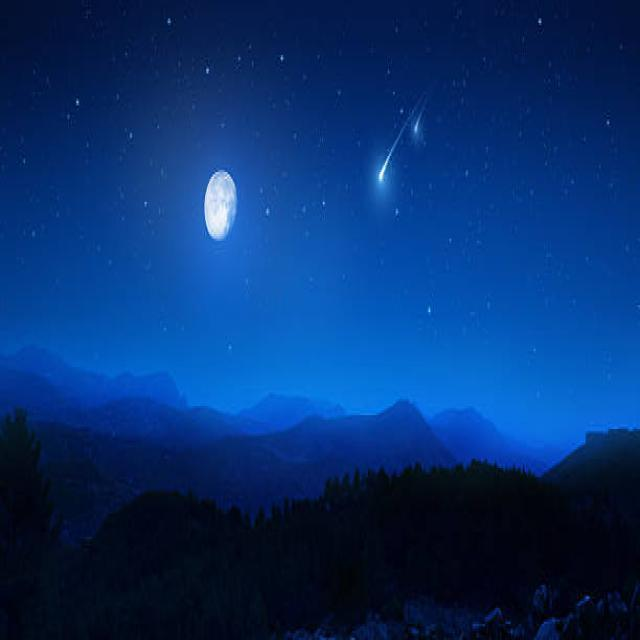moon: (202, 166, 240, 240)
